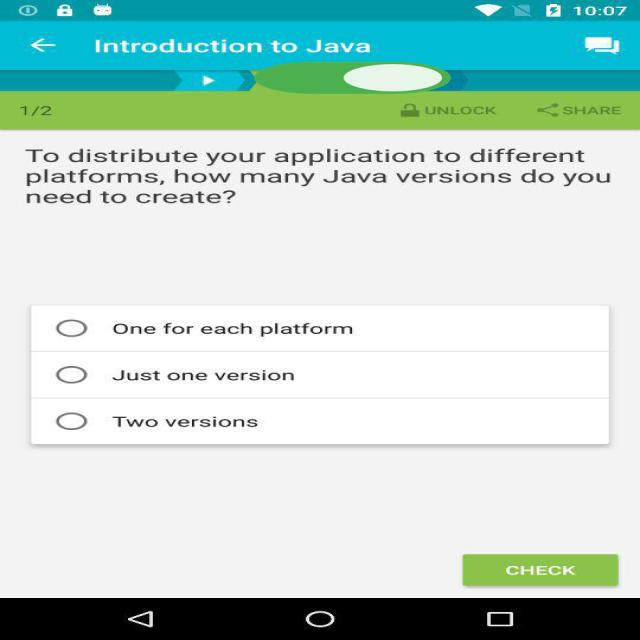social proof: (245, 49, 460, 109)
